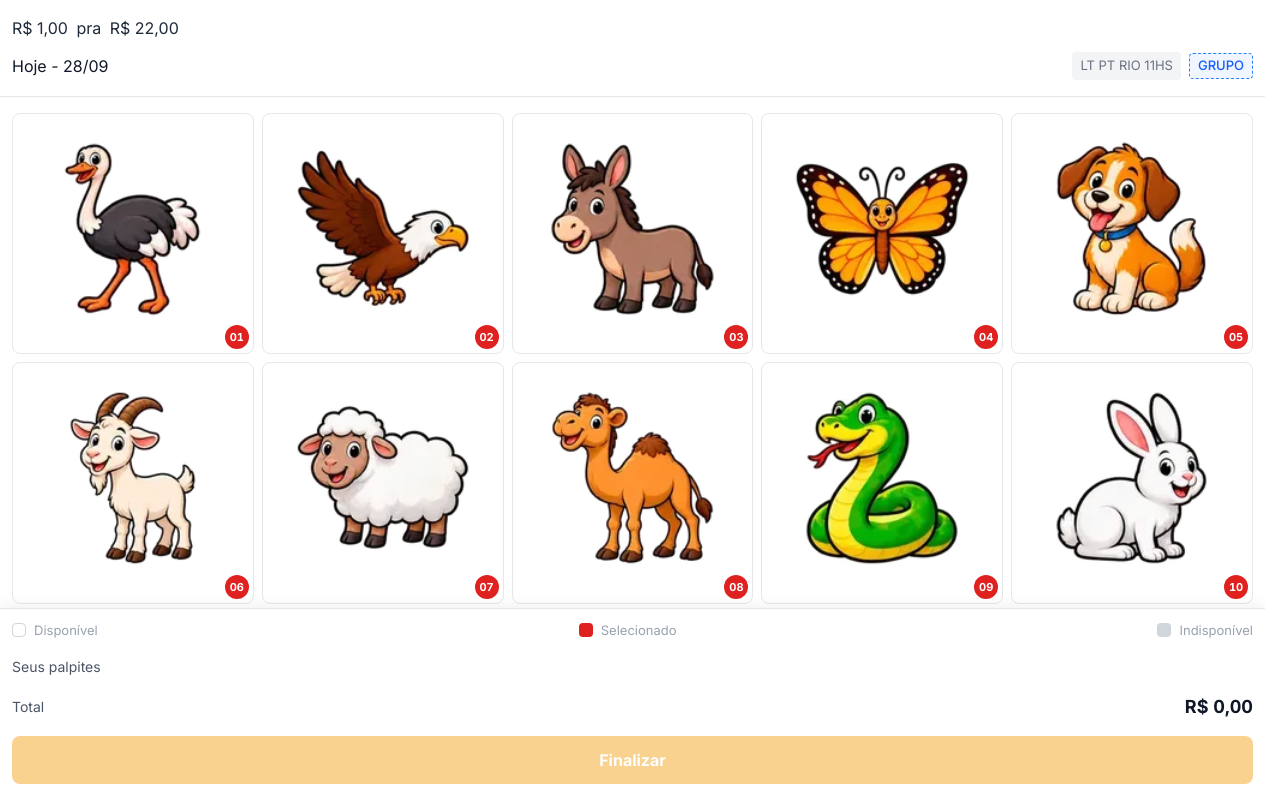
it: PalpitesScreen › Finalizar pede confirmação; cancelar mantém os palpites e não compra
The image size is (1280, 800).
Click the button named "04 Borboleta" at (882, 233), box [761,112,1003,354]
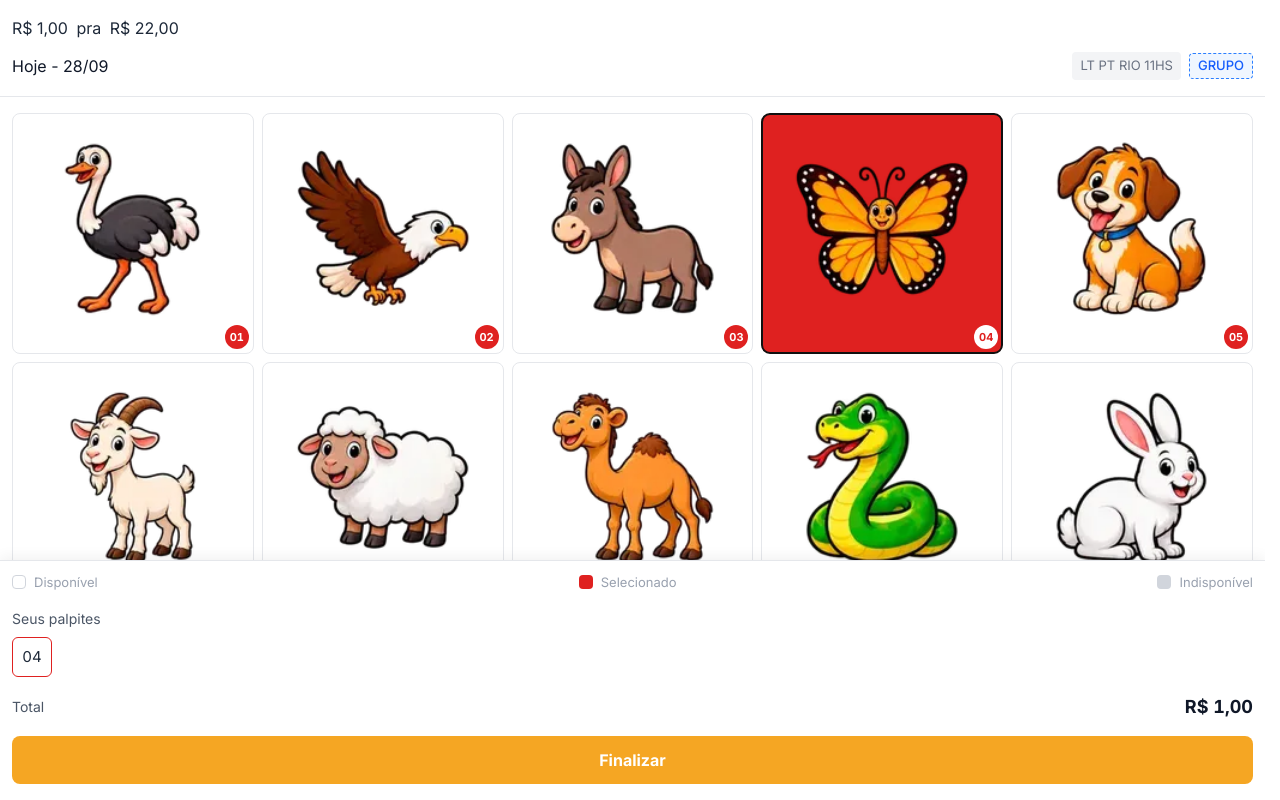
Click the button named "05 Cachorro" at (1132, 233), box [1011,112,1253,354]
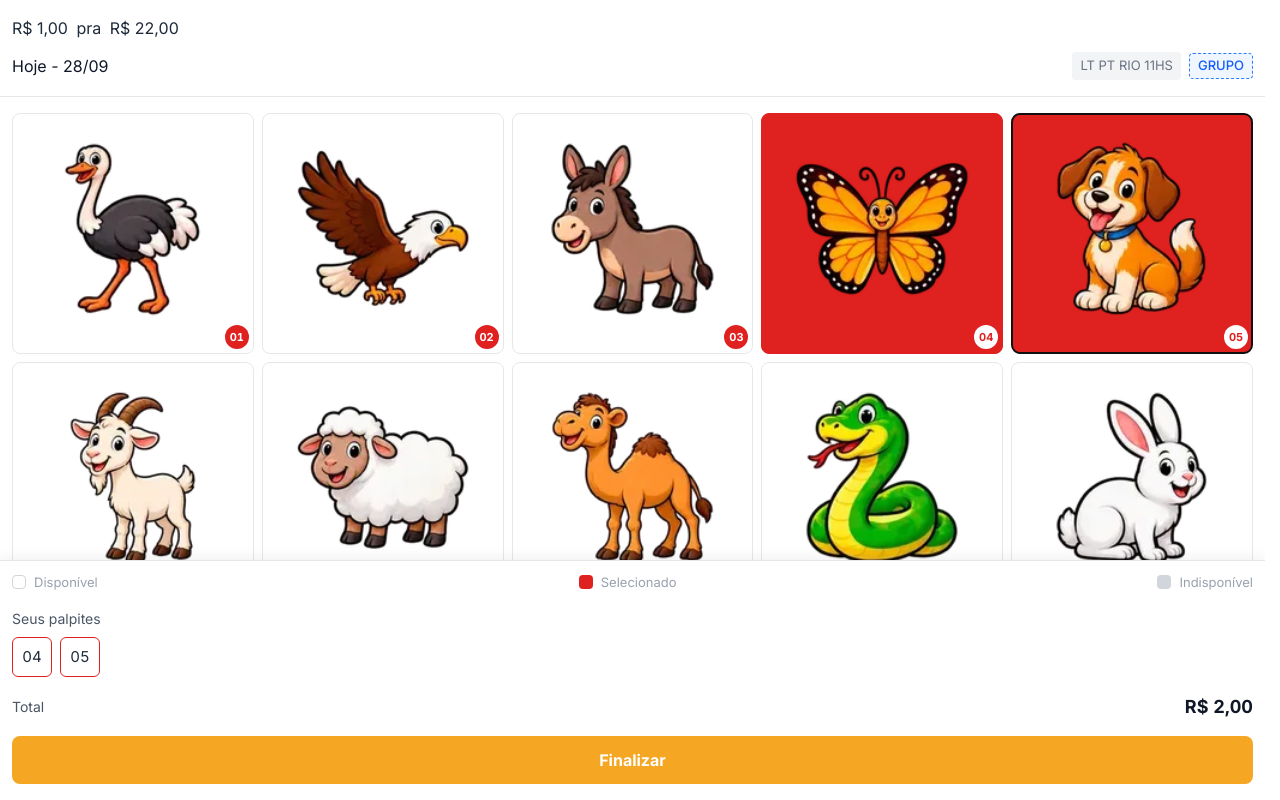
Click the button "Finalizar" at (632, 760), box [12,736,1253,784]
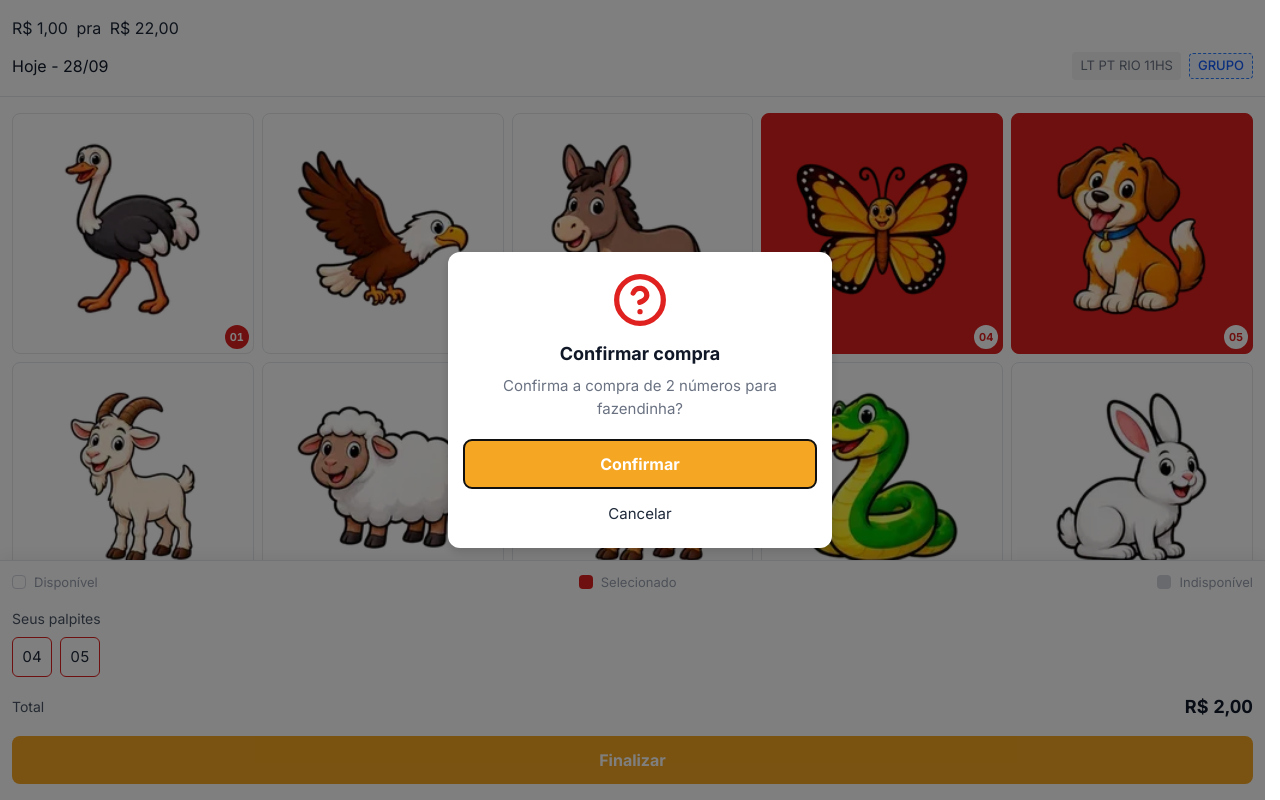
Click the button "Cancelar" at (640, 514), box [464,492,816,536]
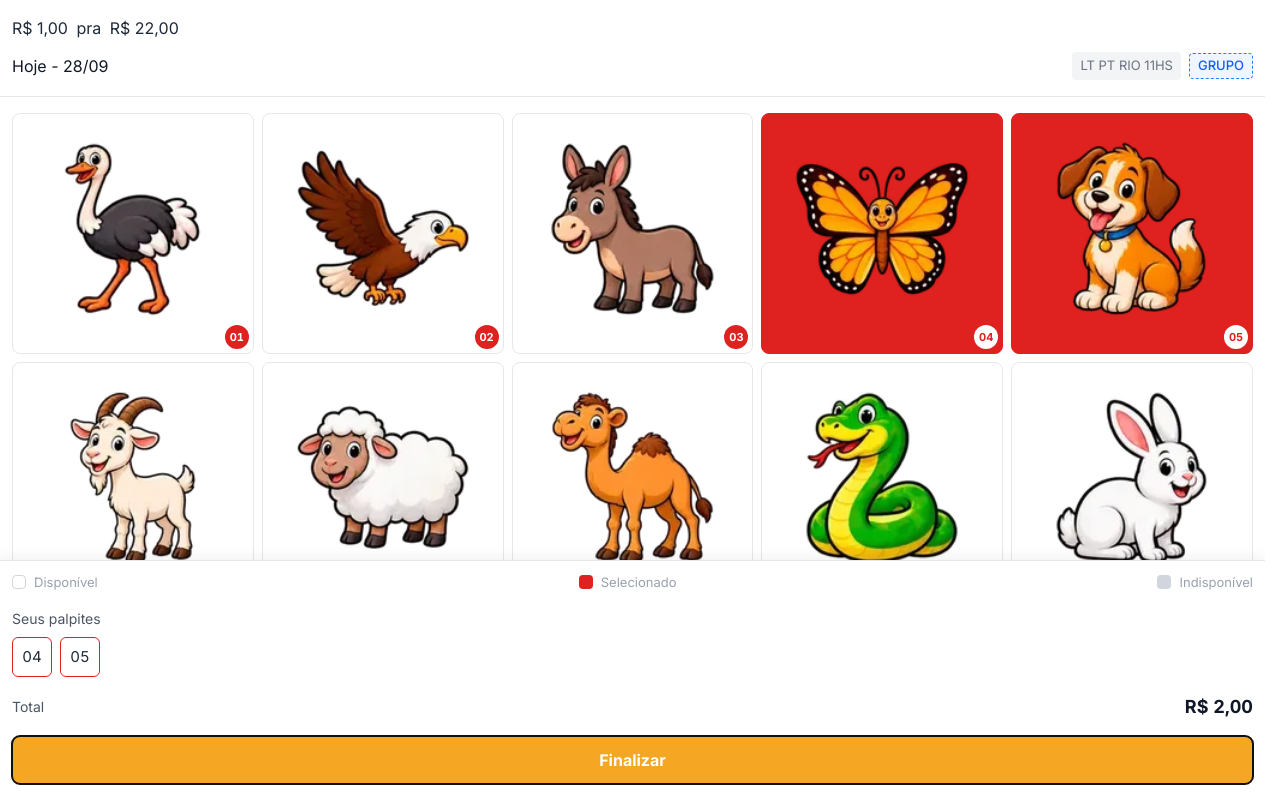
expect the text "R$ 2,00" is shown: met, box [1185,693,1253,720]
expect the dialog is gone: met
